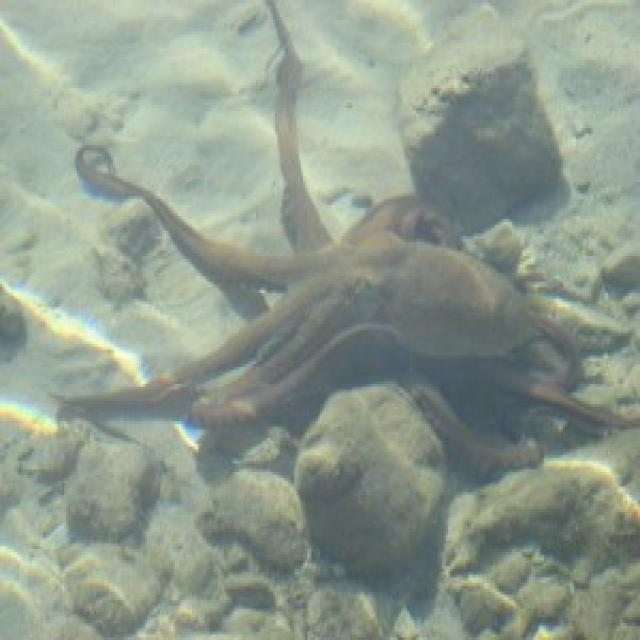Octo: (74, 138, 618, 489)
